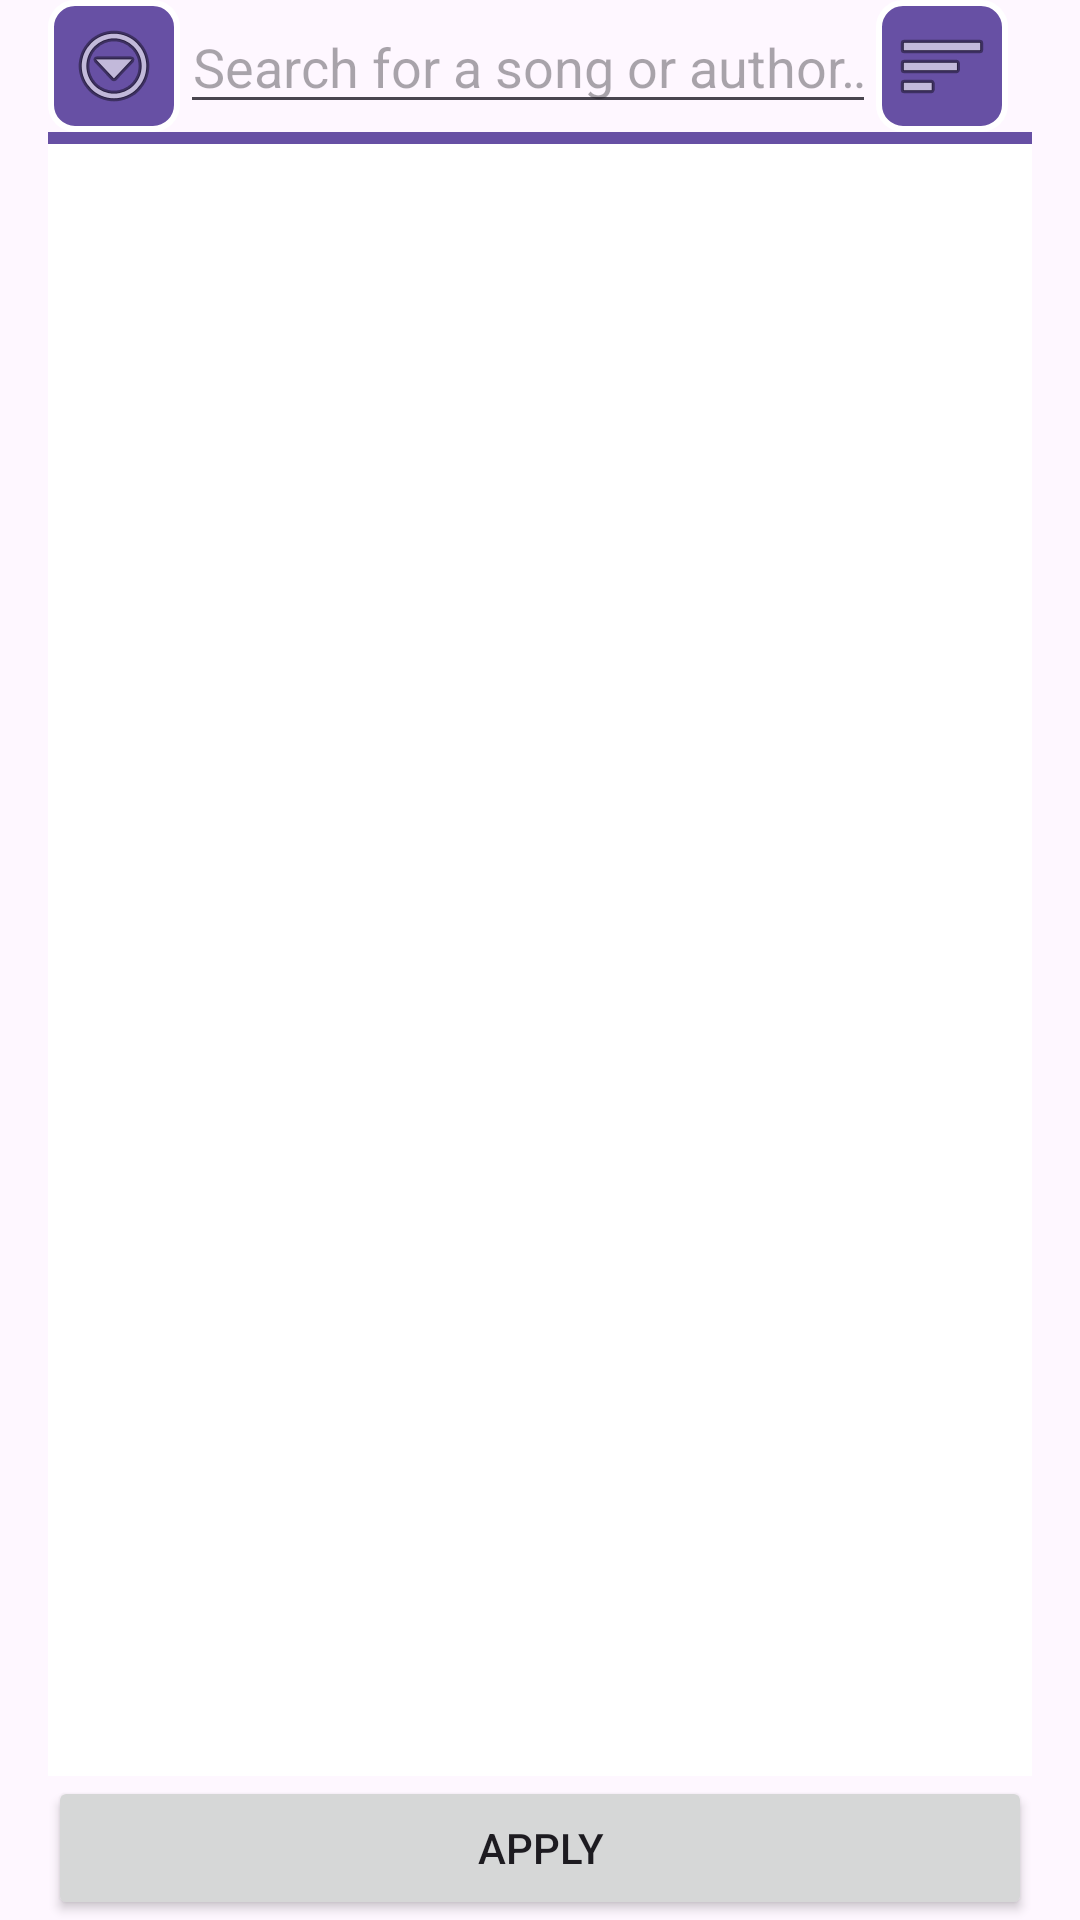

Icon click points for this 1080x1920 phone screenshot, format [x,y]:
more: [114,66]
sort by size: [942,66]
